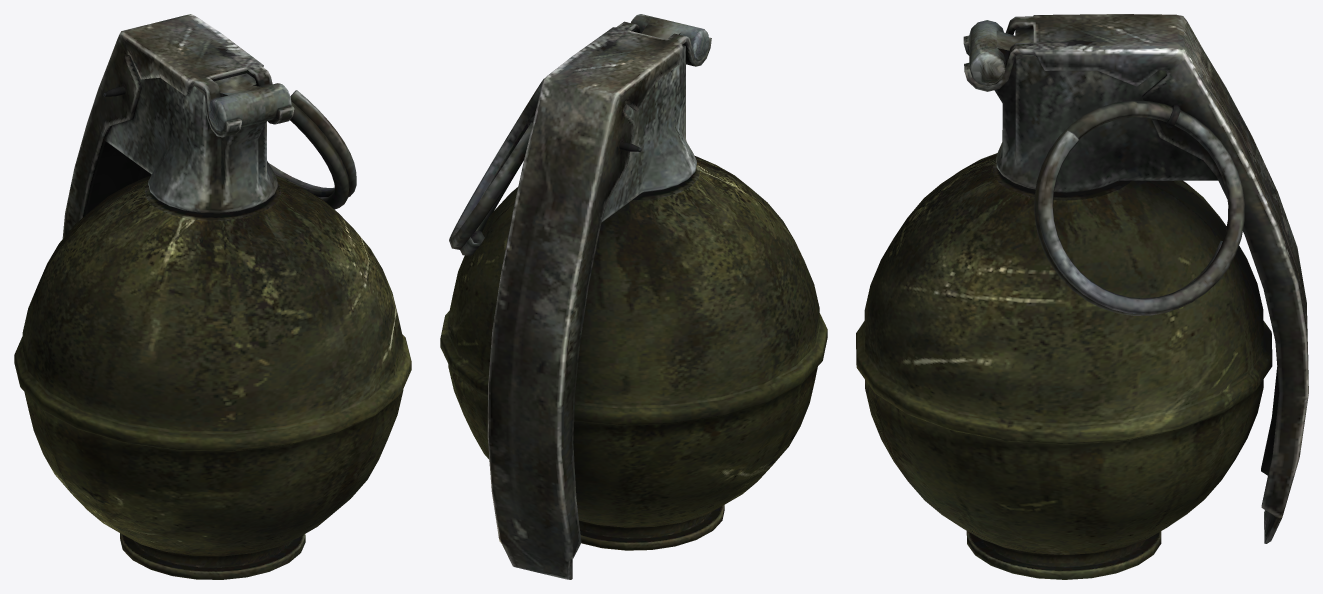
Rendered from Weapons_Grenades_HEGrenade_LOD0.glb.
The picture shows the model from 3 angles, left to right: view 1: azimuth 30°, elevation 25°; view 2: azimuth 150°, elevation 25°; view 3: azimuth 270°, elevation 25°; orthographic projection. The views are drawn at different scales.
Visible parts, largest first — view 1: Hoodie; view 2: Hoodie; view 3: Hoodie.
Part boxes in pixels (x1,y1,x2,y2): Hoodie: (14, 14, 411, 579); Hoodie: (440, 14, 827, 579); Hoodie: (856, 14, 1308, 579).
Size of the model in its own units: 0.083 by 0.1105 by 0.0895.
1 material, 1 textured.
